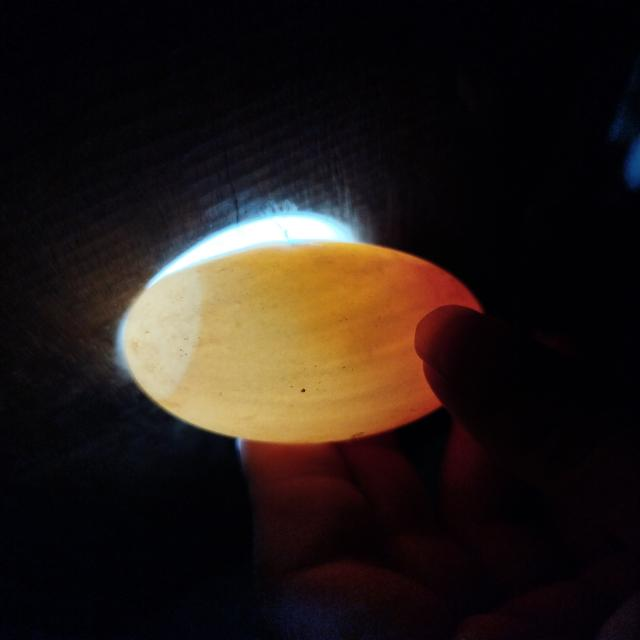Camara de Ar: (125, 270, 200, 401)
Gema Quebrada: (365, 254, 478, 435)
